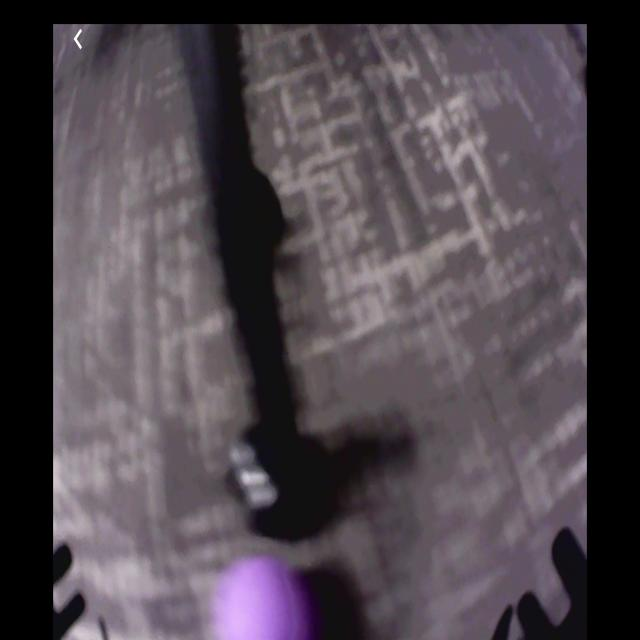ball: (206, 556, 312, 640)
